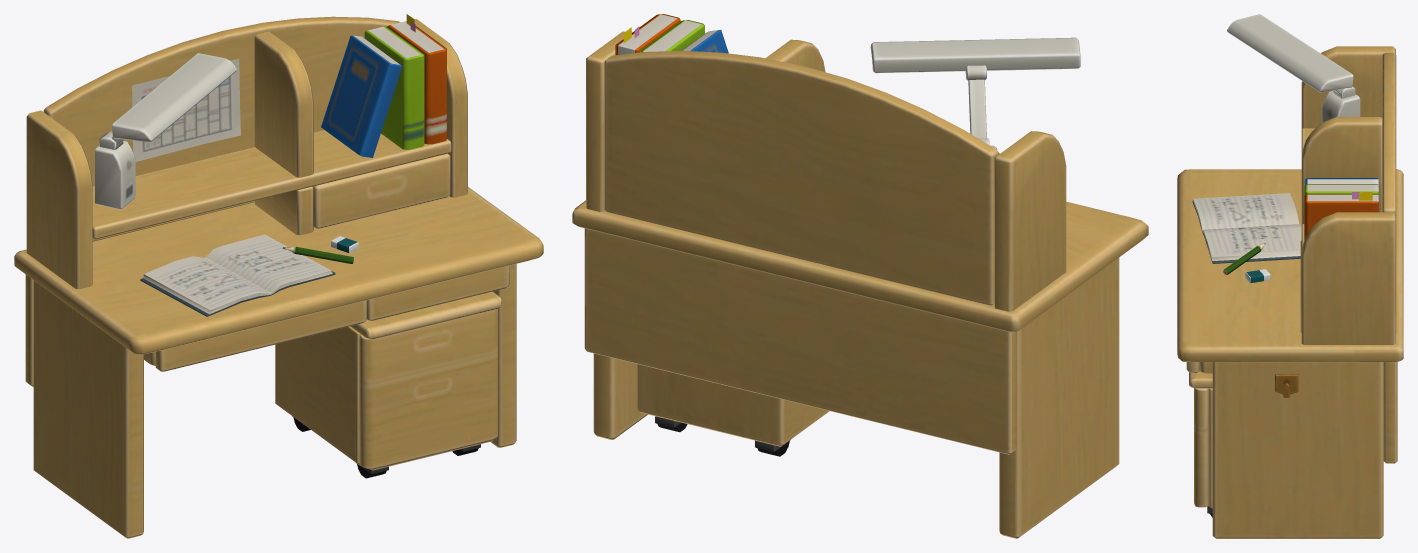
The model's file is studydesk.glb.
3 views of the same model, side by side, from view 1: azimuth 30°, elevation 25°; view 2: azimuth 150°, elevation 25°; view 3: azimuth 270°, elevation 25° (orthographic). The views are drawn at different scales.
Parts seen in each view (by area): view 1: FtrStudyDesk__mReBody; view 2: FtrStudyDesk__mReBody; view 3: FtrStudyDesk__mReBody.
Part boxes in pixels (<box>): FtrStudyDesk__mReBody: <box>14,14,543,538</box>; FtrStudyDesk__mReBody: <box>572,14,1148,538</box>; FtrStudyDesk__mReBody: <box>1177,14,1403,538</box>.
Size of the model in its own units: 16.34 by 15.02 by 8.59.
Materials: 1 (1 with a texture image).
